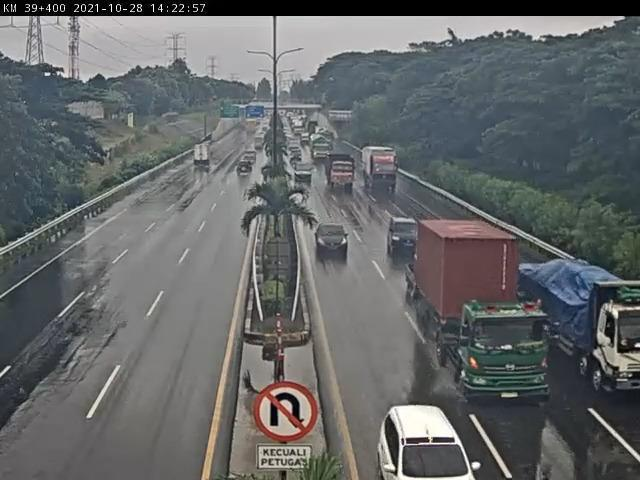truck: (416, 221, 550, 406), (512, 260, 640, 390), (362, 146, 398, 185), (325, 149, 358, 190)
